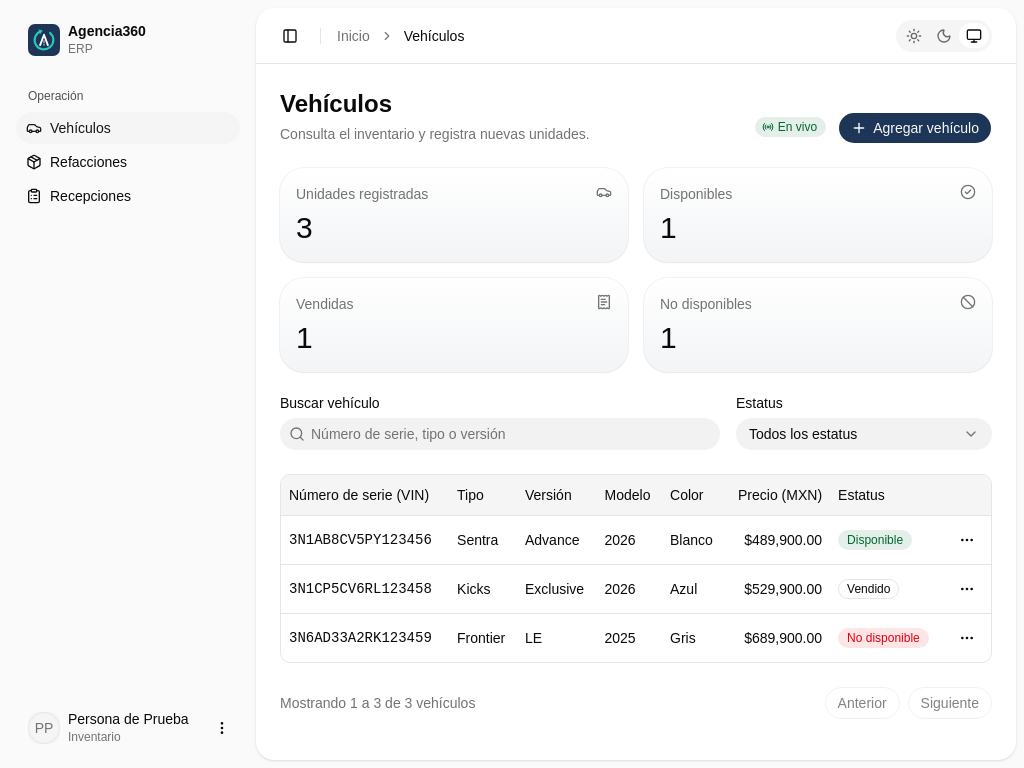
Test: Inventario de vehículos › filtra por estatus
Check: the text "3N1AB8CV5PY123456" is shown, box [281,515,449,564]
Click the dropdown labelled "estatus". click: click(864, 434)
box: [736,418,992,450]
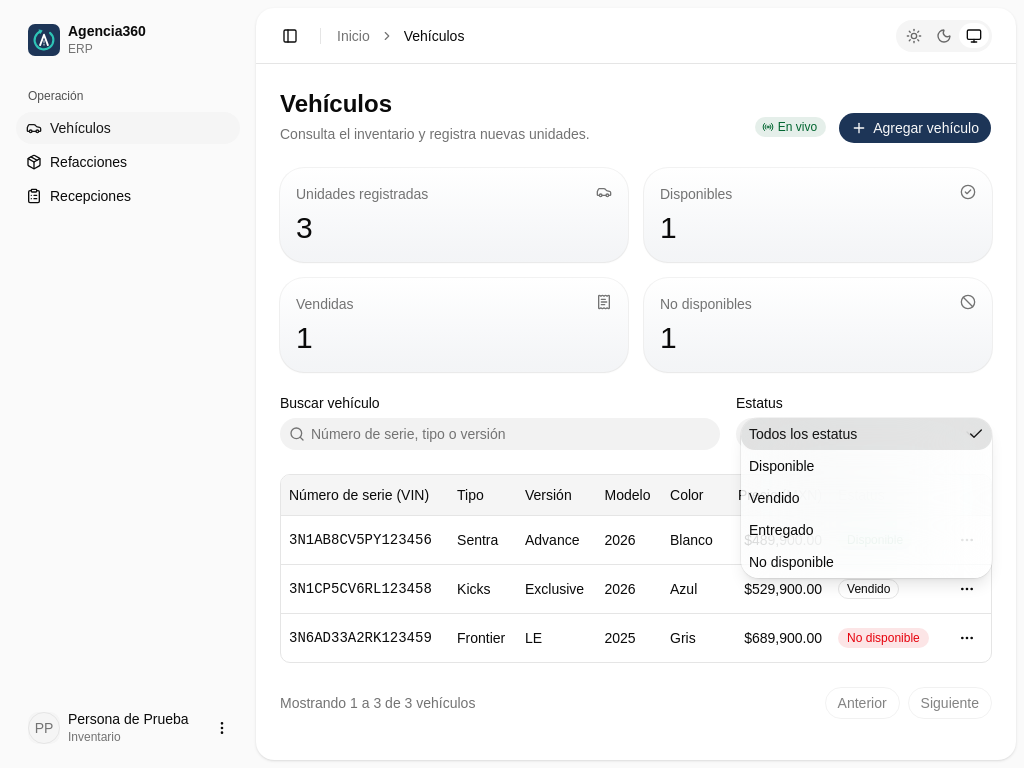
Click the option "No disponible". click: click(791, 562)
box: [749,554,834,570]
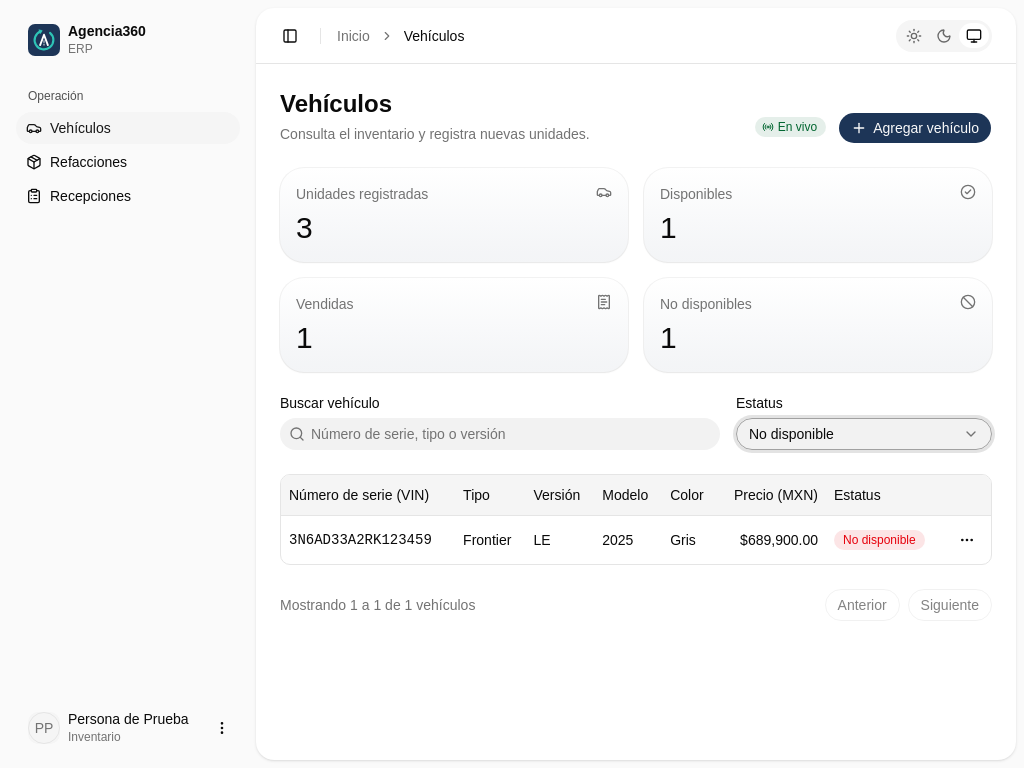
Check: the text "3N6AD33A2RK123459" is shown, box [281,515,455,564]
Check: the text "3N1AB8CV5PY123456" is gone
